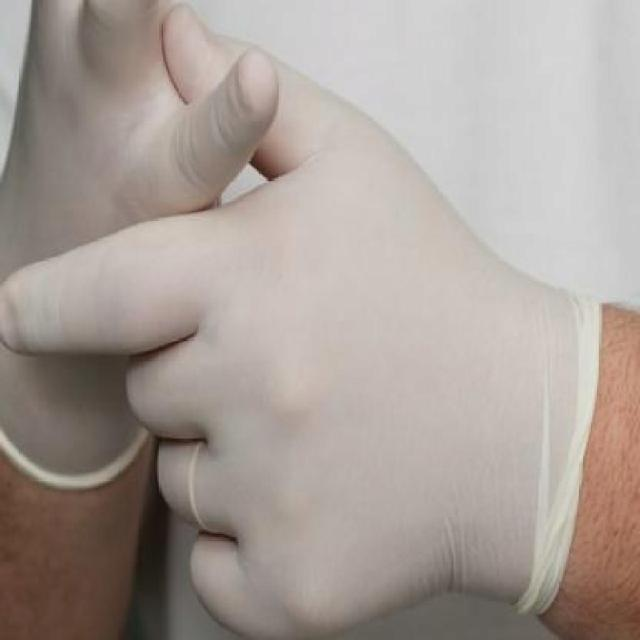glove: (1, 3, 608, 629)
